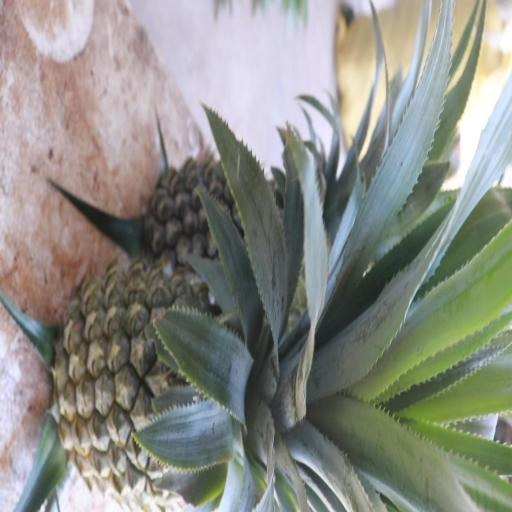------------------------------: (61, 265, 273, 491)
